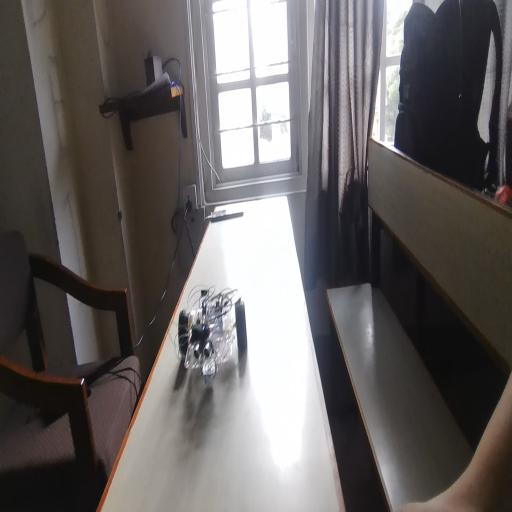car: (174, 267, 255, 414)
